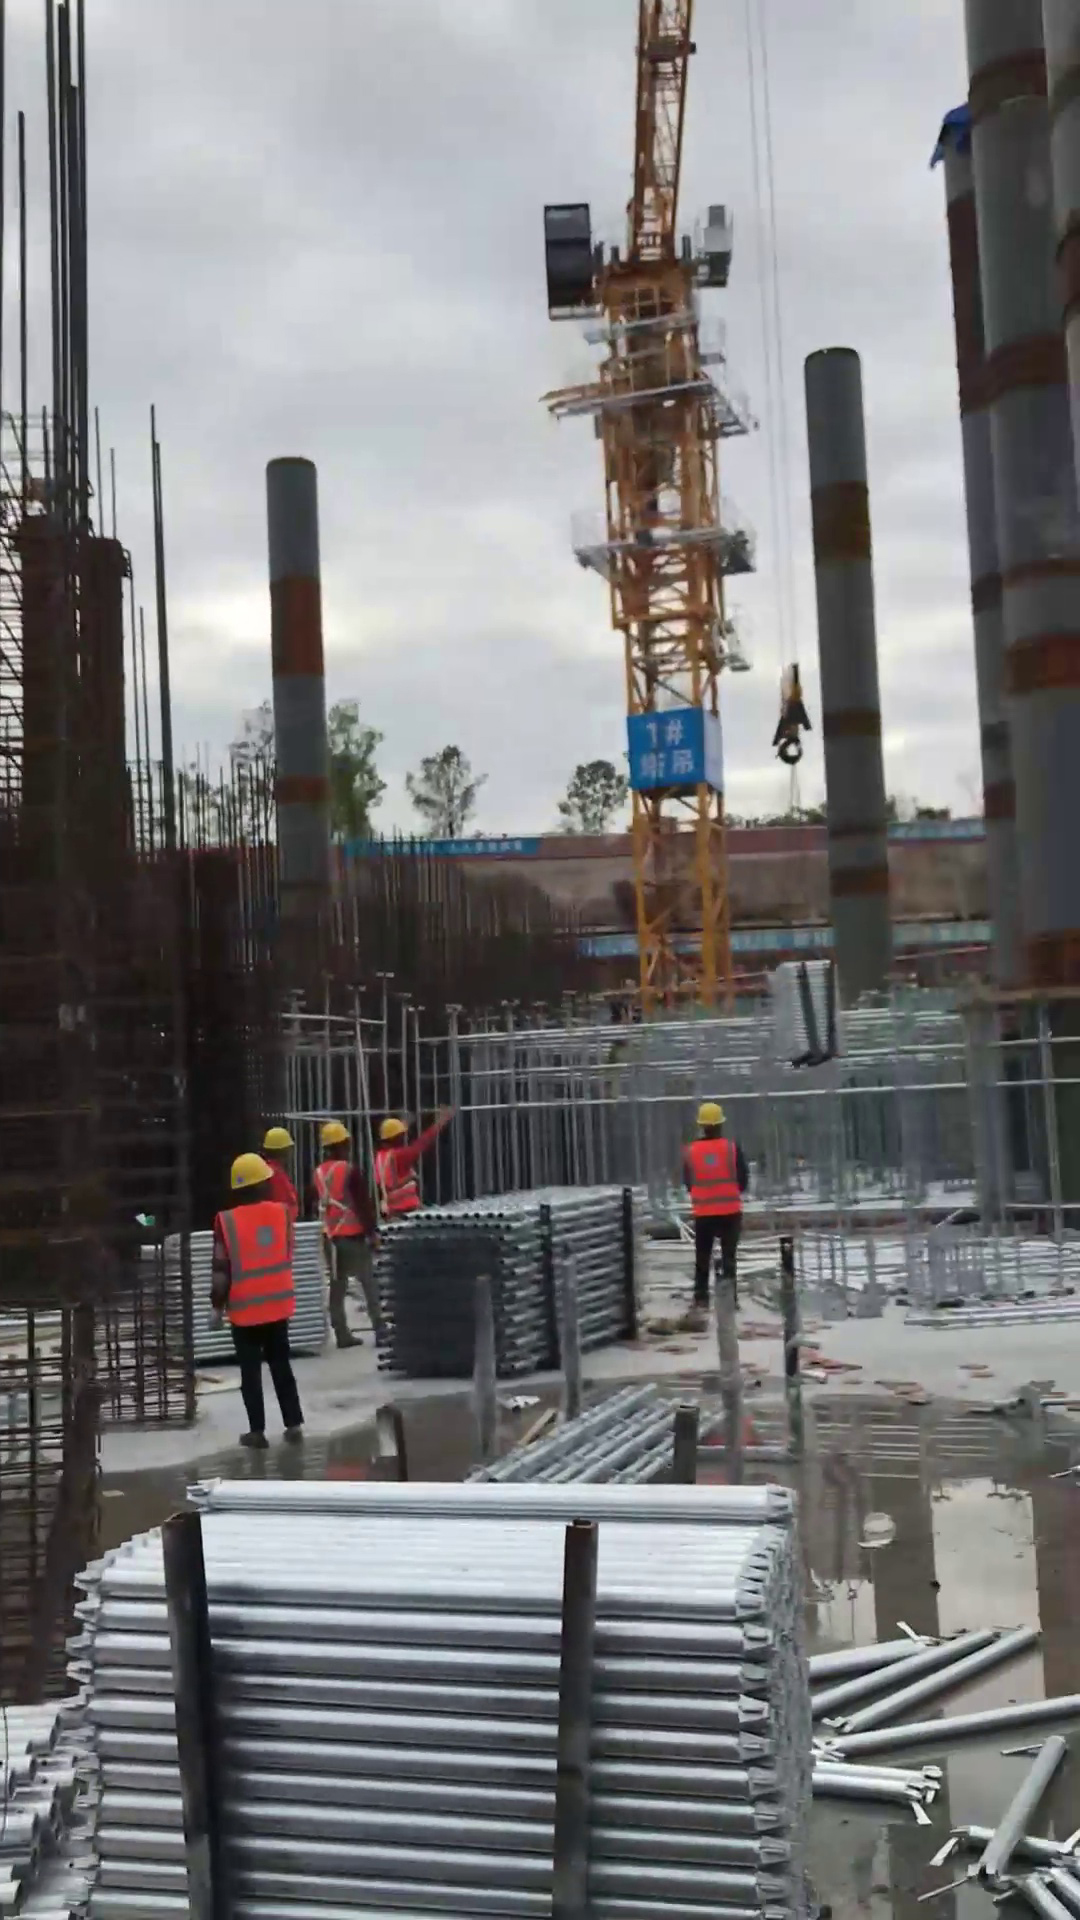helmet: (225, 1154, 280, 1194), (254, 1122, 303, 1163), (312, 1108, 355, 1153), (686, 1096, 733, 1135), (375, 1107, 414, 1146)
hook: (766, 653, 821, 775)
person: (204, 1151, 322, 1458), (668, 1093, 771, 1329), (307, 1111, 400, 1357), (371, 1094, 453, 1229), (251, 1113, 303, 1222)
scaffold: (46, 1453, 830, 1920), (376, 1163, 659, 1391)
slogan: (384, 831, 542, 861), (730, 923, 841, 956), (893, 918, 994, 948), (890, 814, 984, 844)
vest: (214, 1196, 300, 1336), (679, 1135, 749, 1226), (304, 1154, 368, 1251), (364, 1136, 426, 1224), (265, 1157, 303, 1225)
